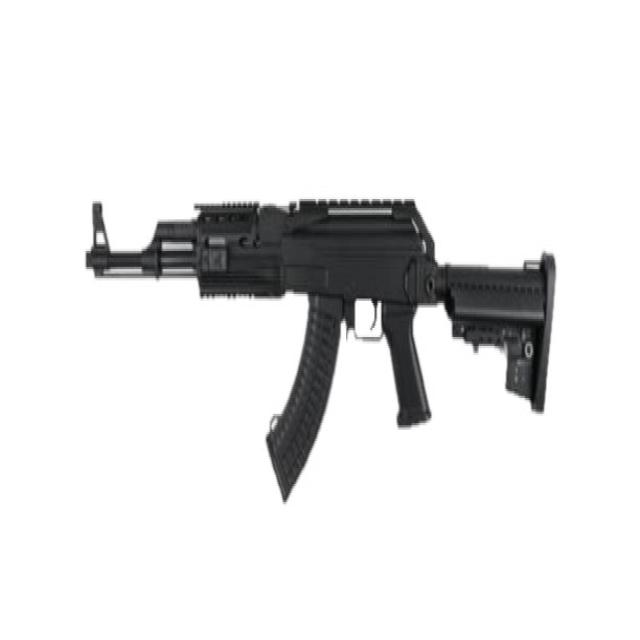rifle: (81, 185, 563, 509)
